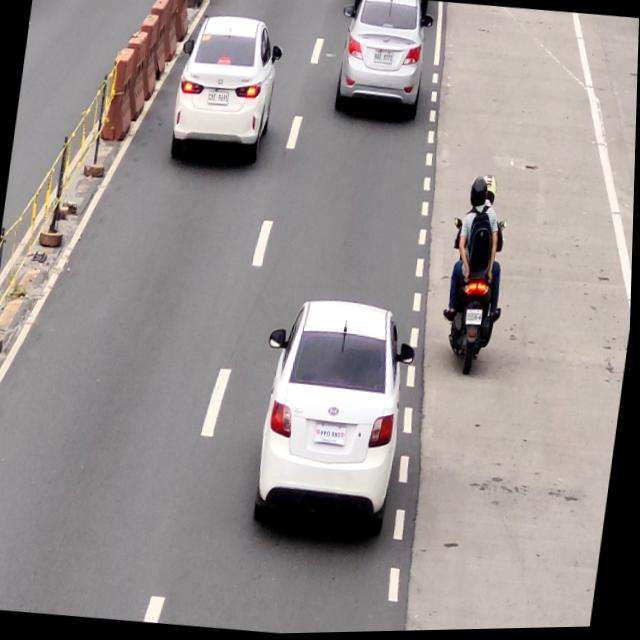Car: (251, 294, 417, 548), (167, 10, 283, 171), (330, 0, 434, 123)
License-Plate: (314, 422, 352, 451), (466, 309, 487, 329), (206, 90, 231, 106), (372, 50, 395, 67)
Motorcycle: (439, 166, 516, 376)
